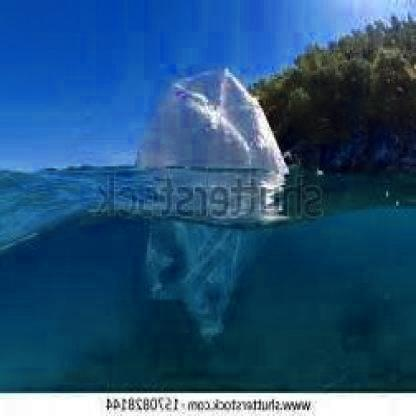pbag: (137, 64, 289, 343)
